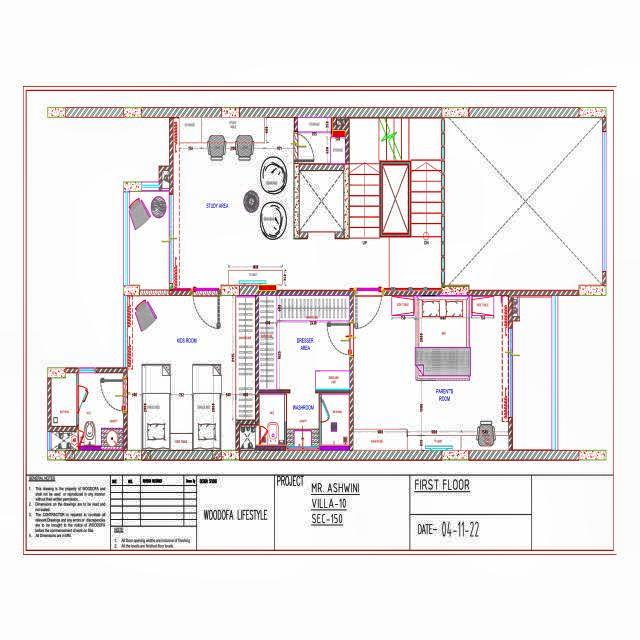room: (445, 118, 602, 288), (352, 294, 509, 451), (174, 116, 295, 288), (127, 296, 256, 450), (258, 297, 348, 447), (51, 371, 124, 450), (129, 192, 168, 287), (299, 168, 347, 222), (298, 117, 344, 163), (319, 395, 349, 446), (256, 396, 285, 448)
